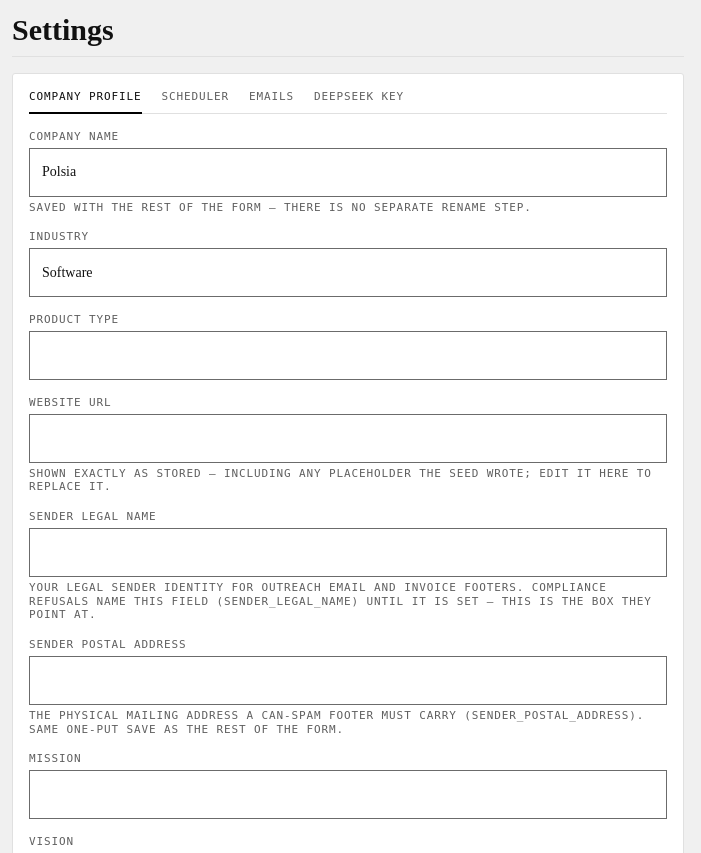
Test: settings — underline tabs (spec R2, live §2.1) › renders all four tabs, exposes tab semantics, and switches panels
The width and height of the screenshot is (701, 853).
Expected: the tab "Company Profile" is shown, x1=29 y1=86 x2=142 y2=114
Expected: the field labelled "Company Name" is shown, x1=29 y1=148 x2=667 y2=196
Click the tab "Scheduler" at [195, 100], box x1=162 y1=86 x2=229 y2=114
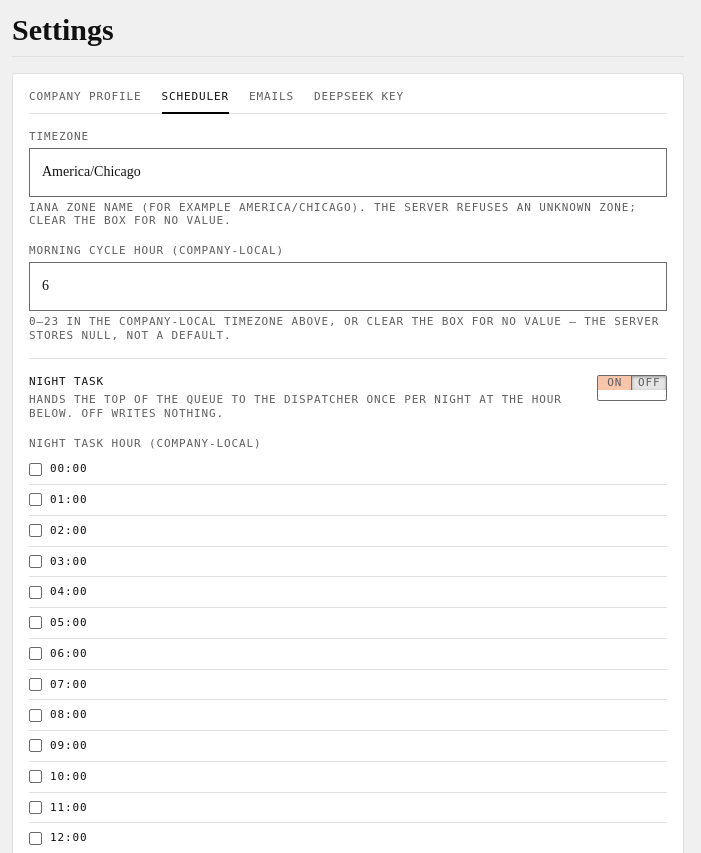
Now the field labelled "Timezone" is shown, box x1=29 y1=148 x2=667 y2=196
Now the label labelled "Company Name" is gone
